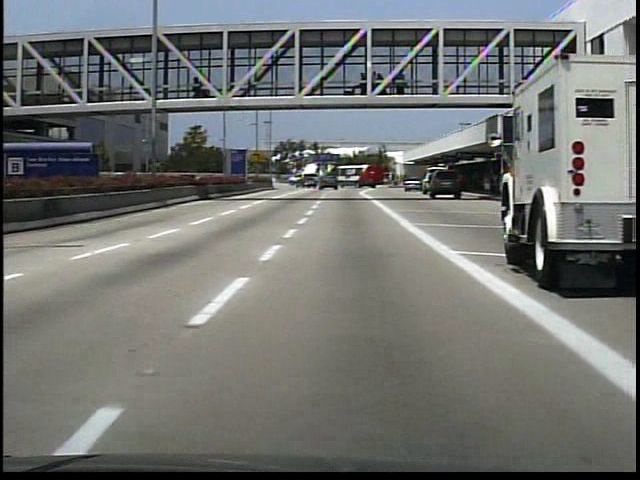person: (482, 173, 493, 199)
